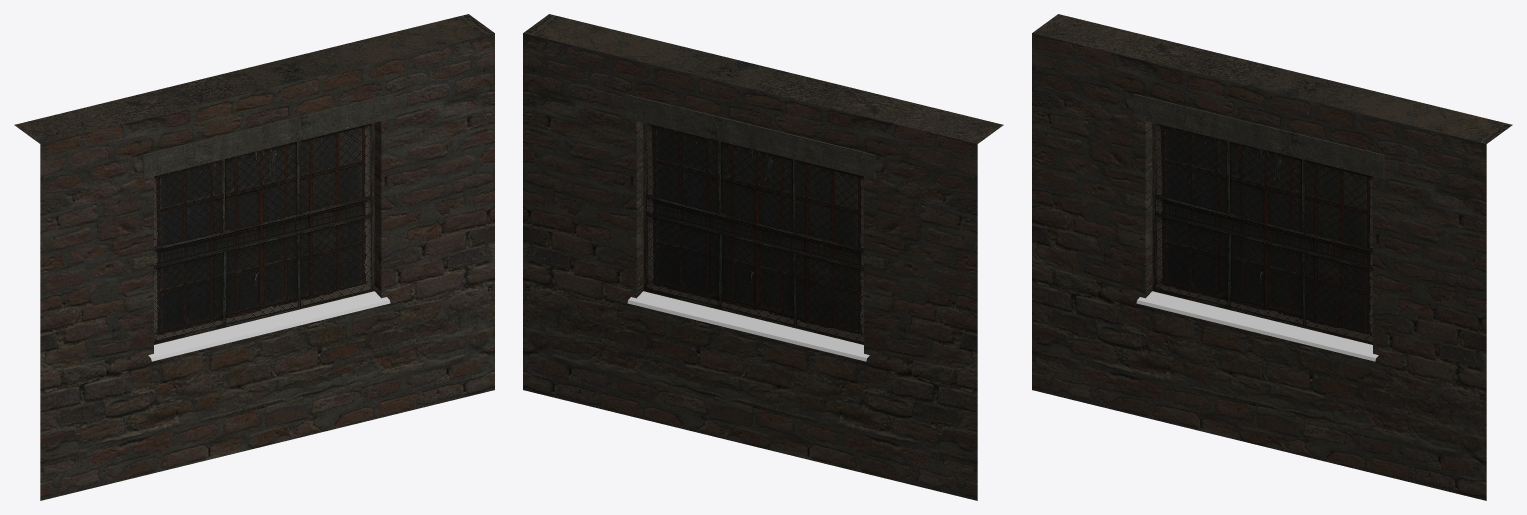
The model's file is window_hr_2.fbx.
The picture shows the model from 3 angles, left to right: view 1: azimuth 30°, elevation 25°; view 2: azimuth 150°, elevation 25°; view 3: azimuth 330°, elevation 25°; orthographic projection.
Visible parts, largest first — view 1: window_hr_2; view 2: window_hr_2; view 3: window_hr_2.
Boxes of the visible parts, x1,y1,x2,y2 form: window_hr_2: [14, 14, 494, 500]; window_hr_2: [523, 14, 1003, 500]; window_hr_2: [1032, 14, 1512, 500].
Size of the model in its own units: 4 by 0.51 by 3.
